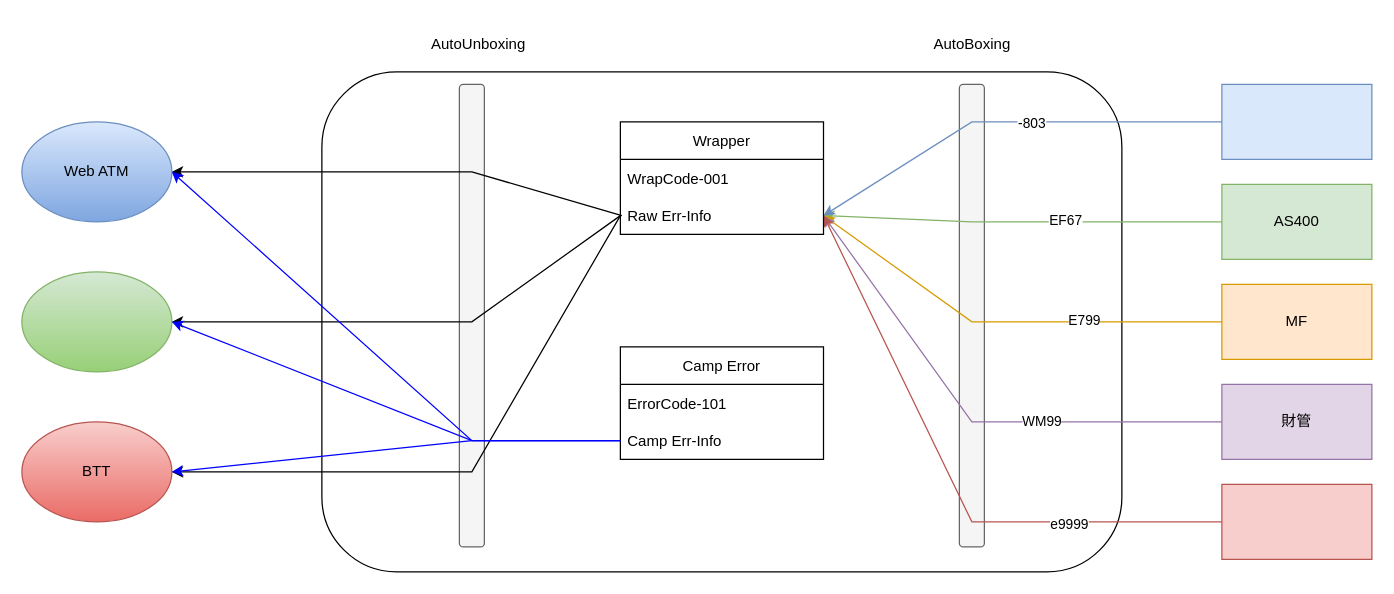
Some shapes in this 1394 by 594 pixel diagram are drawn without their labels. The centre of each missing label's shape, as x and y in pixels:
DW: (x=1296, y=121)
IBMB: (x=96, y=321)
信用卡: (x=1296, y=521)
